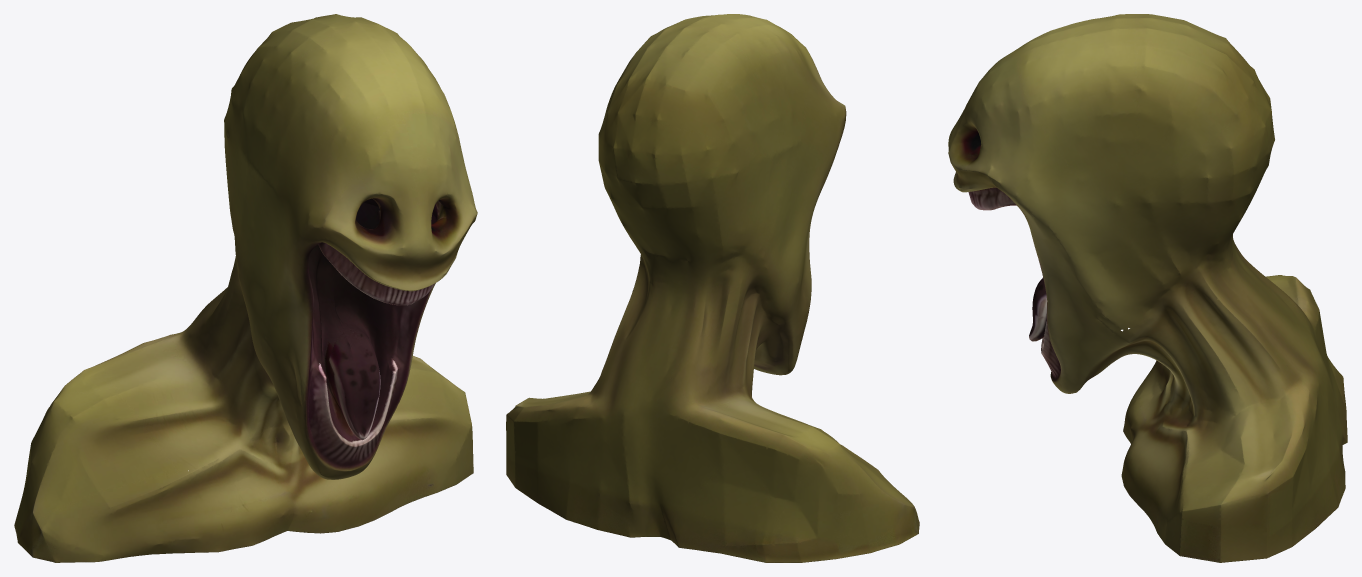
Rendered from verity-open-mouth-head.gltf.
3 views of the same model, side by side, from view 1: azimuth 30°, elevation 25°; view 2: azimuth 150°, elevation 25°; view 3: azimuth 270°, elevation 25° (orthographic). The views are drawn at different scales.
Visible parts, largest first — view 1: _gltfNode_1, _gltfNode_0; view 2: _gltfNode_1, _gltfNode_0; view 3: _gltfNode_0, _gltfNode_1.
Boxes of the visible parts, x1=… form: _gltfNode_1: x1=14, y1=14, x2=458, y2=562; _gltfNode_0: x1=224, y1=111, x2=477, y2=533; _gltfNode_1: x1=598, y1=14, x2=919, y2=562; _gltfNode_0: x1=506, y1=27, x2=846, y2=536; _gltfNode_0: x1=951, y1=52, x2=1345, y2=562; _gltfNode_1: x1=948, y1=14, x2=1347, y2=472.
Size of the model in its own units: 1.78 by 1.9 by 1.47.
1 material, 1 textured.
